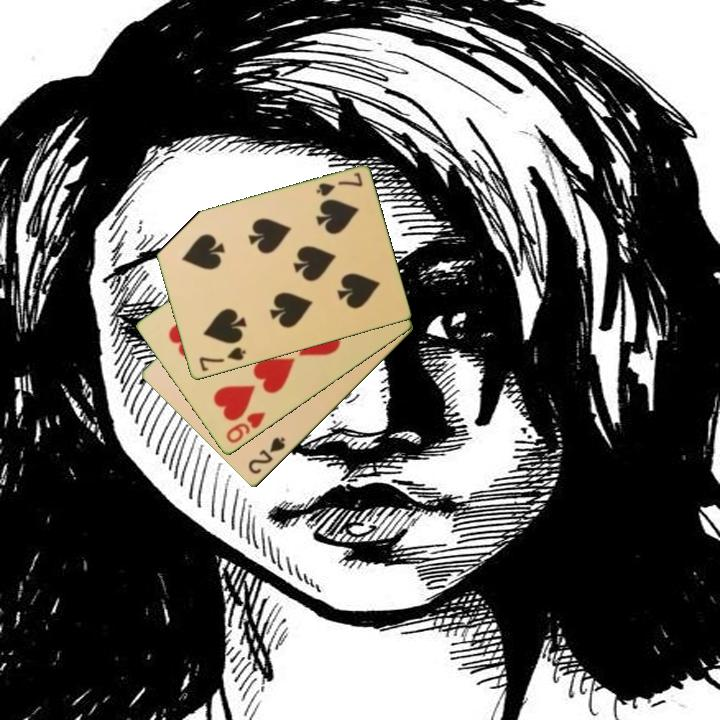2s: (245, 433, 288, 478)
7s: (195, 344, 249, 375), (312, 169, 365, 199)
9h: (222, 409, 269, 447)
